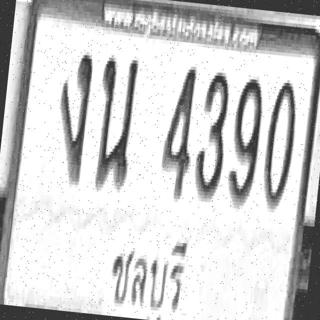A07: (52, 48, 94, 180)
A25: (92, 52, 139, 188)
N00: (260, 76, 300, 208)
N03: (192, 66, 232, 198)
N04: (158, 62, 199, 198)
N09: (226, 73, 266, 205)
P13: (101, 228, 190, 320)
